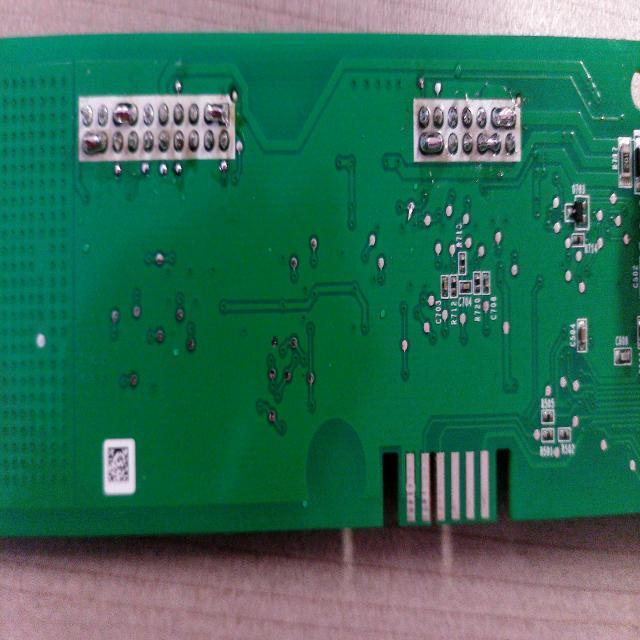Soldering shorted: (109, 98, 141, 128), (490, 102, 520, 134), (476, 132, 504, 165), (202, 100, 232, 130), (77, 130, 107, 159), (417, 130, 444, 162)
